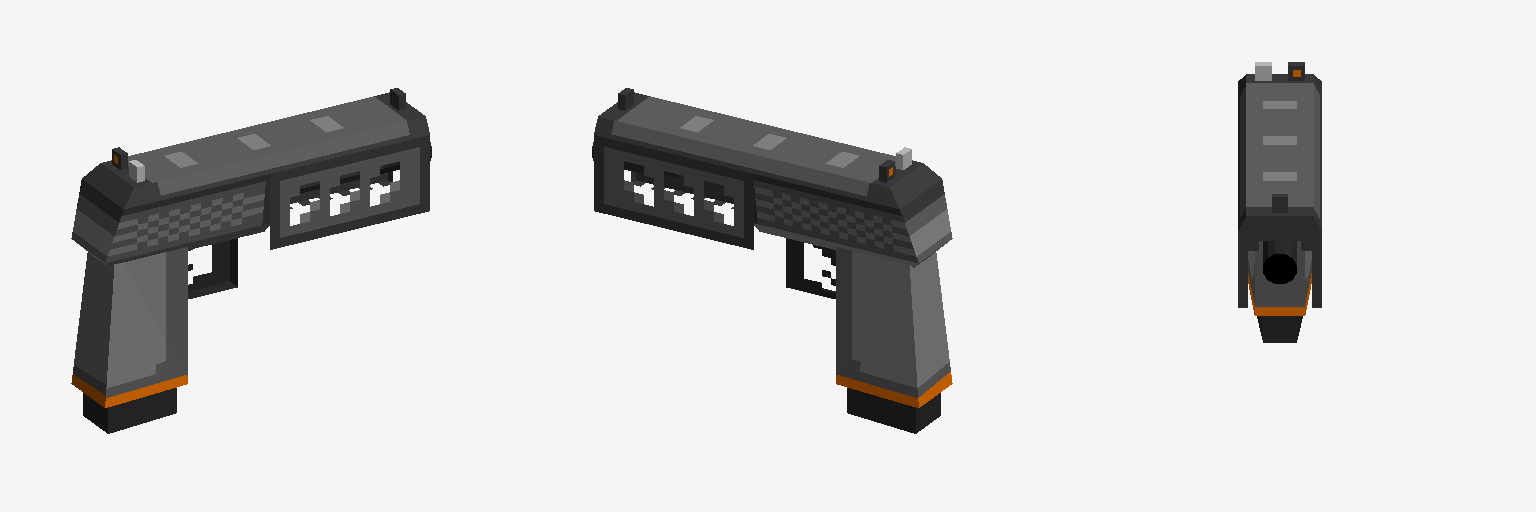
3 views of the same model, side by side, from view 1: azimuth 30°, elevation 25°; view 2: azimuth 150°, elevation 25°; view 3: azimuth 270°, elevation 25° (orthographic).
Visible parts, largest first — view 1: cuboid, cylinder; view 2: cuboid, cylinder; view 3: cuboid, cylinder.
Boxes of the visible parts, x1,y1,x2,y2 form: cuboid: [71, 88, 429, 433]; cylinder: [300, 142, 431, 193]; cuboid: [594, 88, 952, 433]; cylinder: [592, 142, 723, 193]; cuboid: [1238, 62, 1321, 342]; cylinder: [1263, 241, 1296, 283].
Size of the model in its own units: 0.2875 by 0.2125 by 0.0625.
Materials: 12 (11 with a texture image).